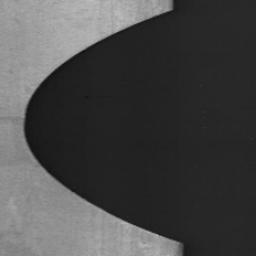Crescent gap: (24, 9, 180, 243)
